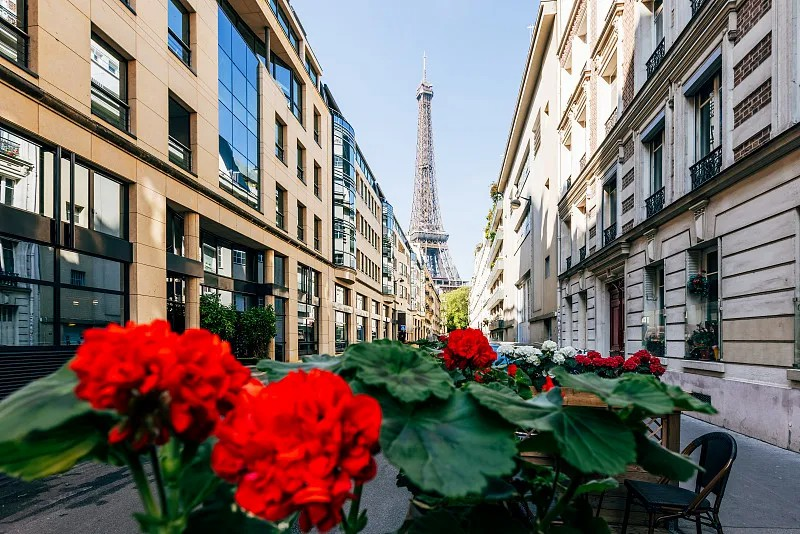Eiffel: (406, 50, 467, 296)
